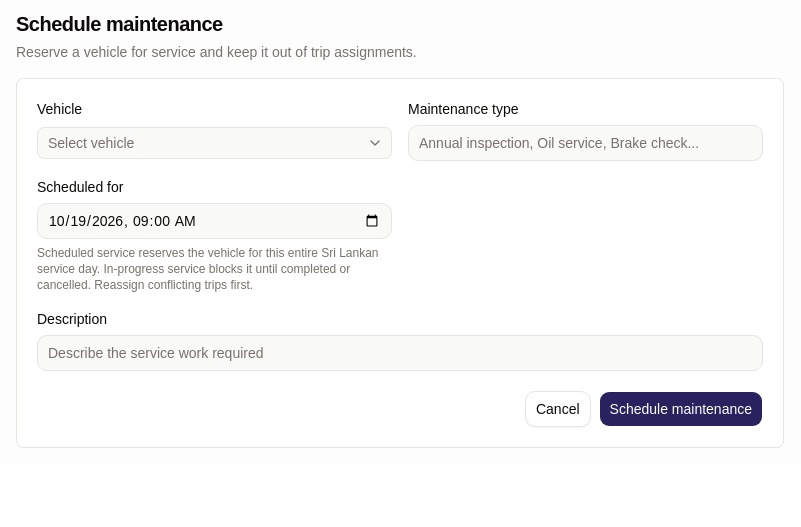
Scenario: MaintenanceFormPage › MaintenanceFormPage shows 'Please select a vehicle.' when submitted without a selected vehicle and sends no POST request
This screenshot has width=801, height=527.
Type "Brake inspection" into the field labelled "Maintenance type" at (586, 143), box [408,125,763,161]
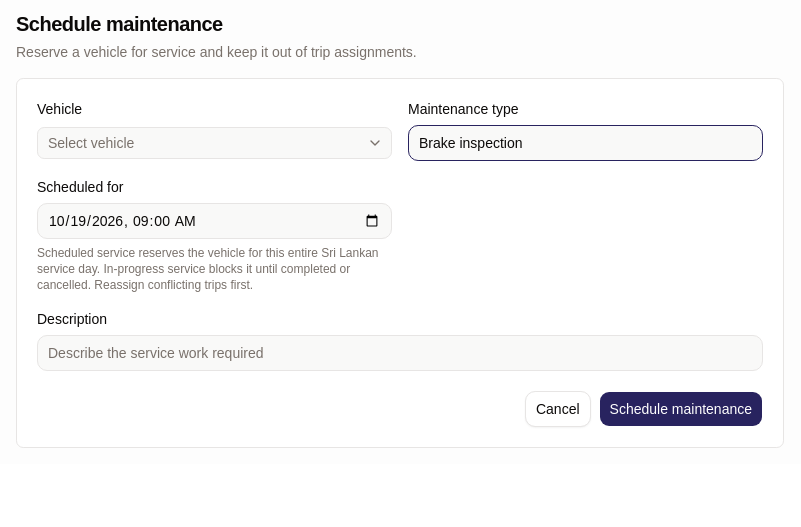
Type "Inspect brake pads and drums" into the field labelled "Description" at (400, 353), box [37,335,763,371]
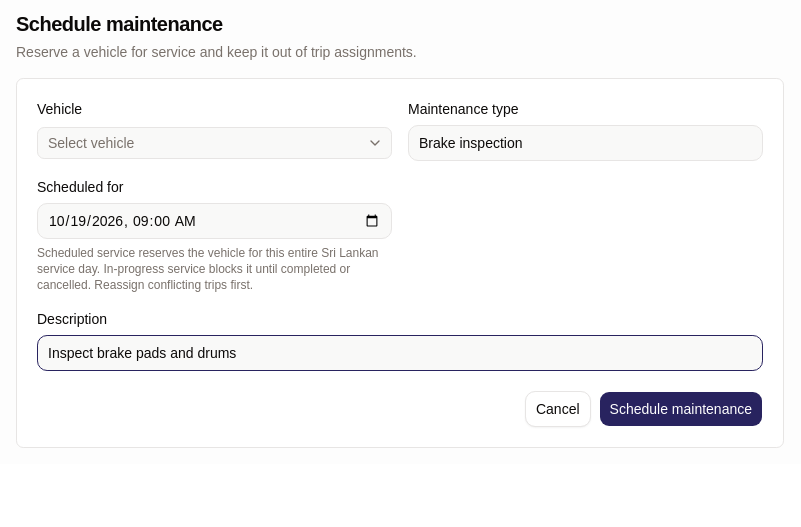
Click the button "Schedule maintenance" at (681, 409), box [599,391,763,427]
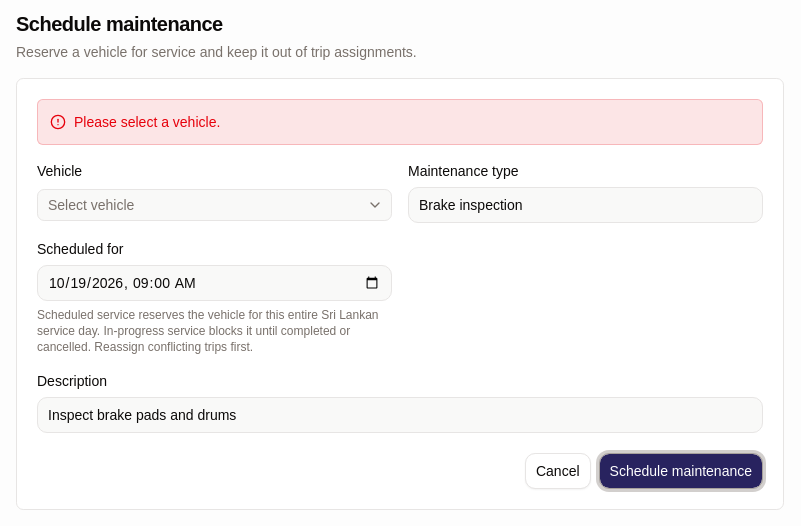
Result: the text "Please select a vehicle." is shown at [74,112,220,132]
